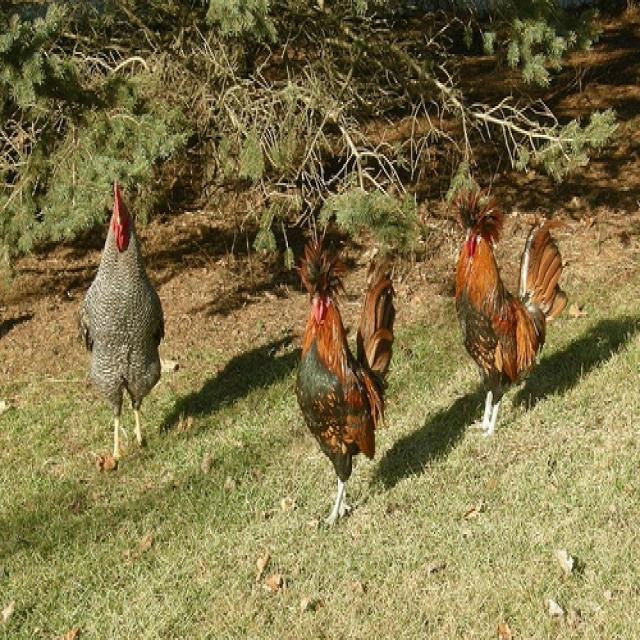bird: (289, 234, 401, 526), (449, 185, 571, 438), (78, 174, 168, 460)
